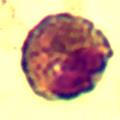lymphocyte: (18, 11, 115, 98)
